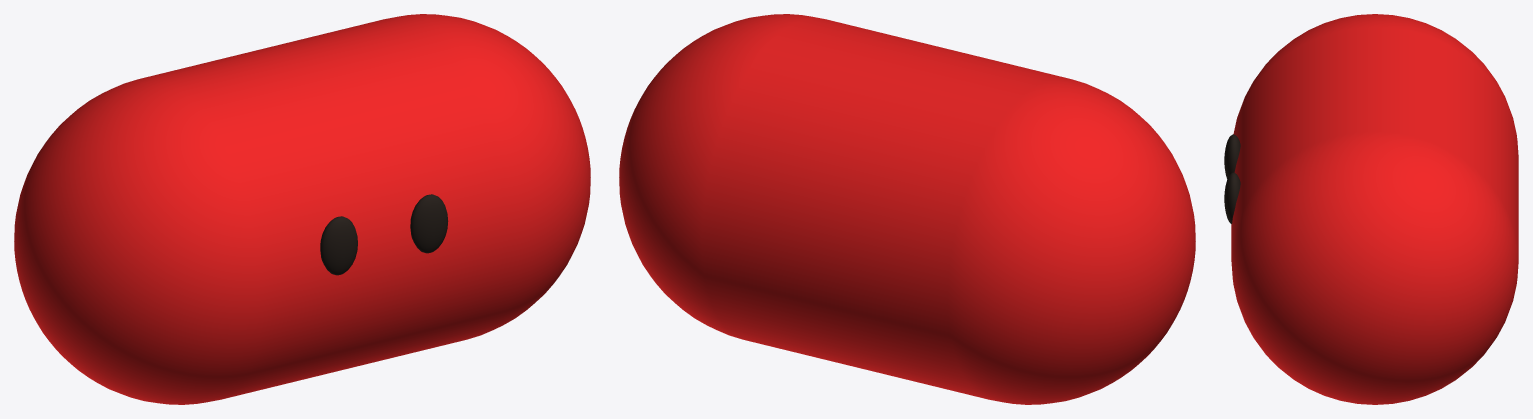
The model's file is mkorp-red-pill-mascot.glb.
The picture shows the model from 3 angles, left to right: view 1: azimuth 30°, elevation 25°; view 2: azimuth 150°, elevation 25°; view 3: azimuth 270°, elevation 25°; orthographic projection. The views are drawn at different scales.
Parts seen in each view (by area): view 1: pill-body, eye (×2); view 2: pill-body; view 3: pill-body, eye (×2).
Boxes of the visible parts, x1=… form: pill-body: x1=14, y1=14, x2=590, y2=404; eye (×2): x1=320, y1=194, x2=448, y2=275; pill-body: x1=619, y1=14, x2=1195, y2=404; pill-body: x1=1231, y1=14, x2=1518, y2=404; eye (×2): x1=1224, y1=134, x2=1240, y2=224.
Bounding box in the file's own units: 0.13 × 0.07 × 0.0718.
